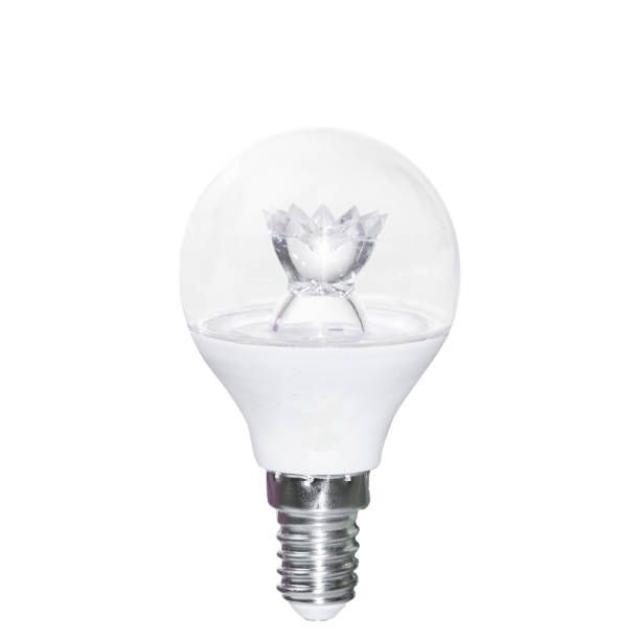electronic: (178, 124, 461, 622)
